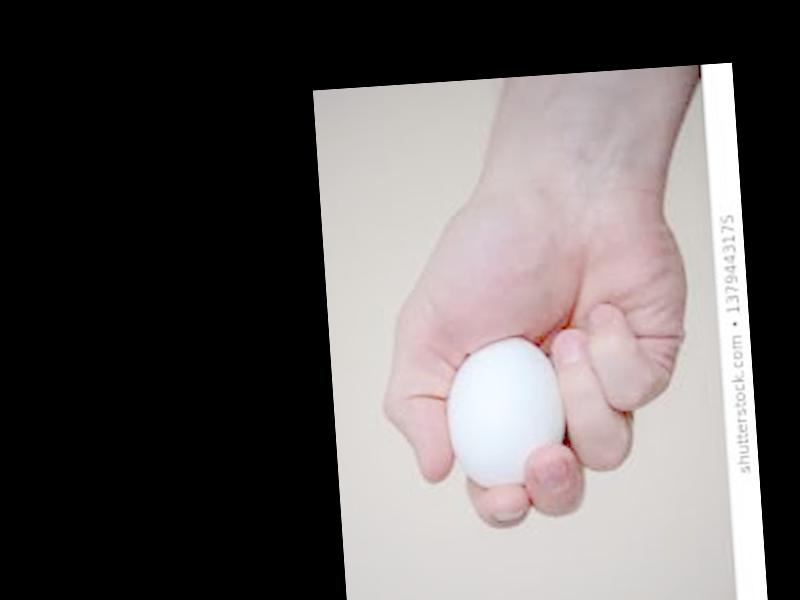Eggs: (442, 332, 567, 489)
